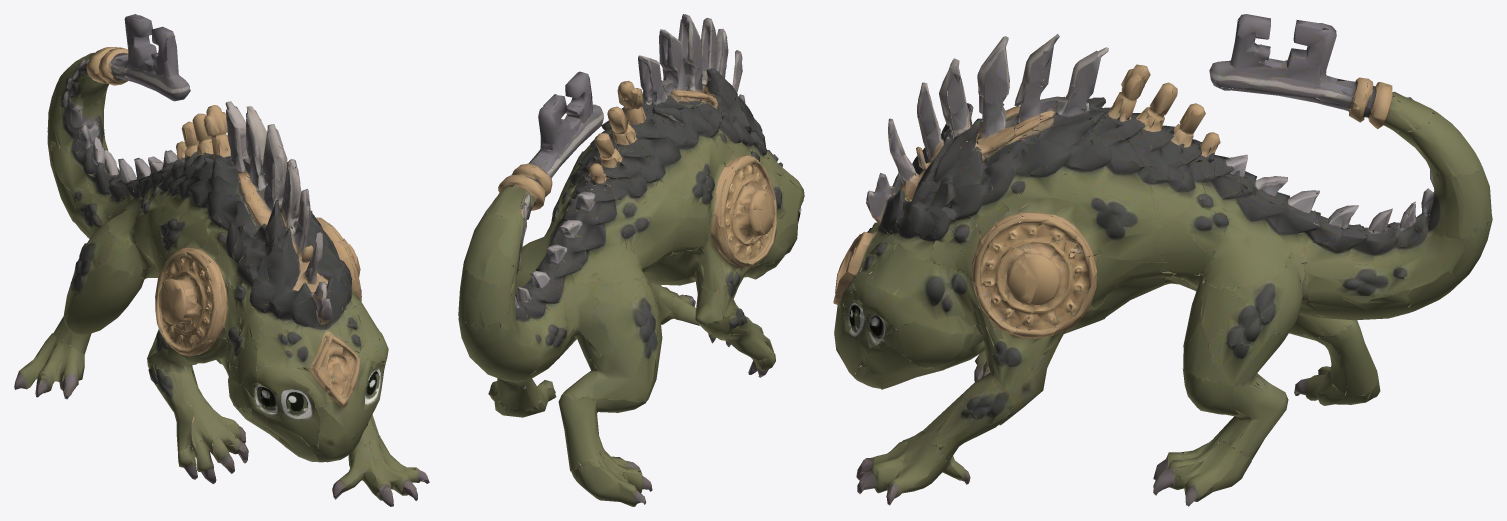
3 views of the same model, side by side, from view 1: azimuth 30°, elevation 25°; view 2: azimuth 150°, elevation 25°; view 3: azimuth 270°, elevation 25° (orthographic). The views are drawn at different scales.
Visible parts, largest first — view 1: Mesh_0; view 2: Mesh_0; view 3: Mesh_0.
Boxes of the visible parts, x1=… form: Mesh_0: x1=14, y1=14, x2=429, y2=506; Mesh_0: x1=458, y1=14, x2=804, y2=506; Mesh_0: x1=833, y1=14, x2=1492, y2=506.
Size of the model in its own units: 0.8696 by 1.37 by 1.9.
1 material, 1 textured.
